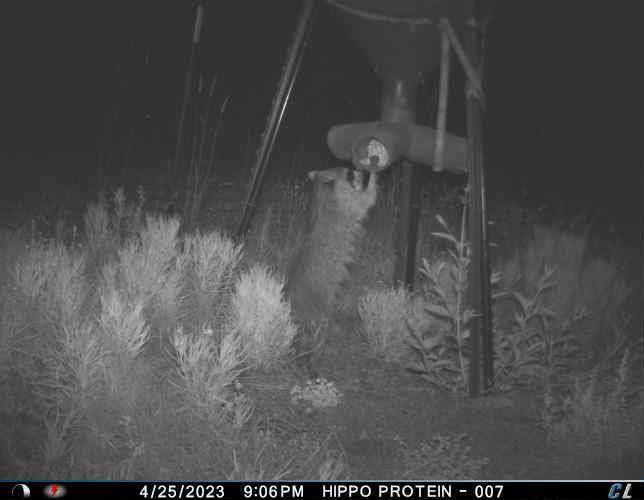Raccoon: (276, 152, 383, 376)
